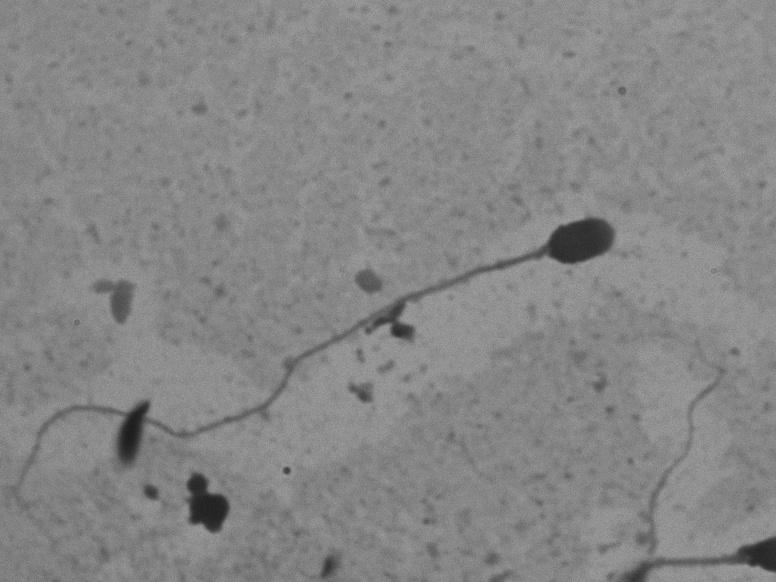Normal: (14, 188, 633, 541)
